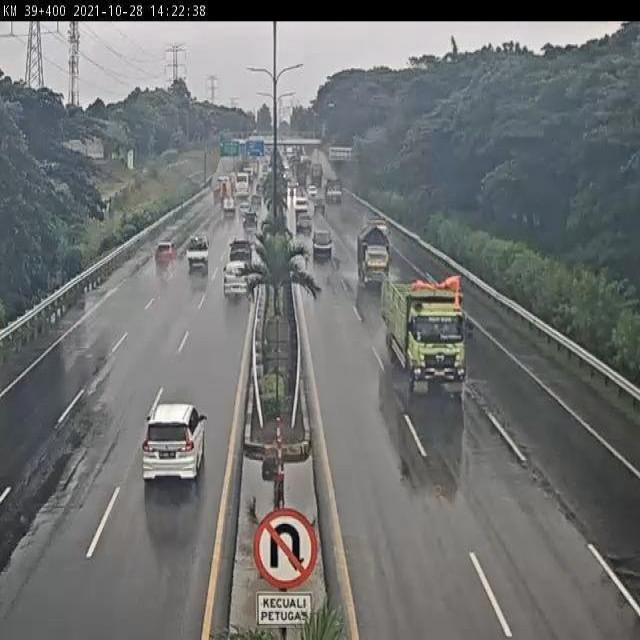truck-l-: (384, 275, 466, 393)
truck-s-: (356, 221, 393, 291)
